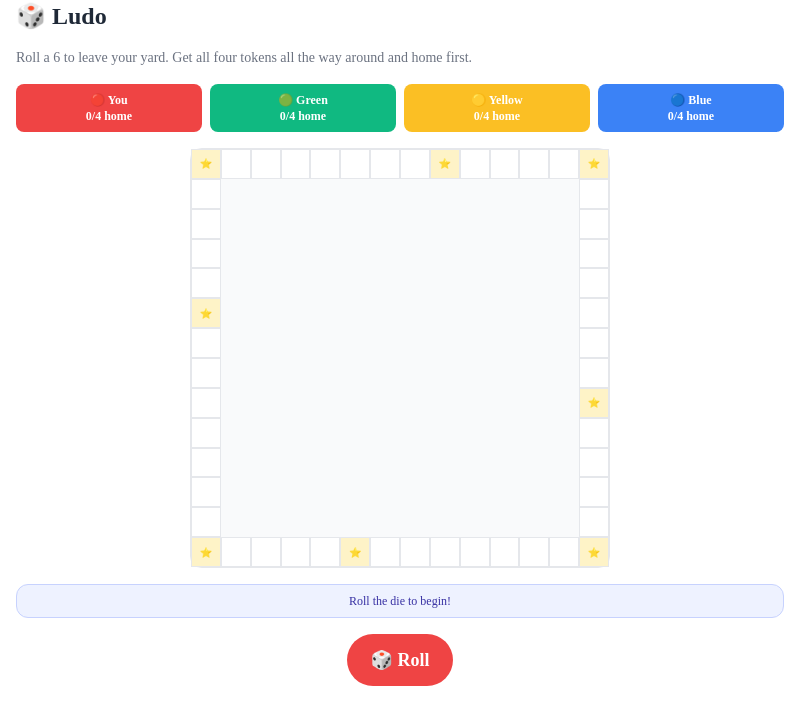
it: LudoGame › rolling a 6 lets the player move a token out of the yard
This screenshot has width=801, height=720.
Click the button "🎲 Roll" at point(400, 660), box [346,634,454,686]
(page scrolled)
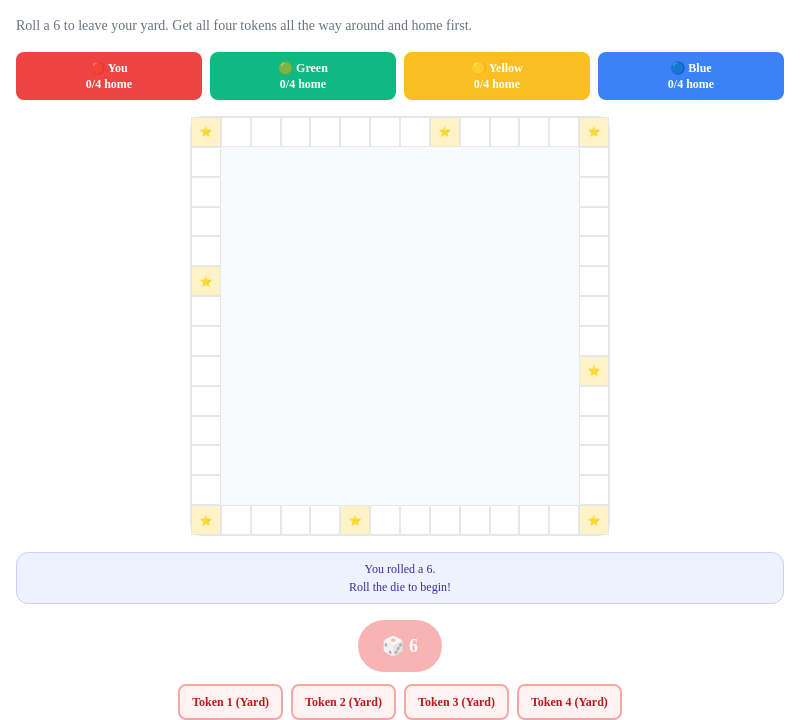
expect the button "🎲 6" is shown: met, box [358,620,442,672]
expect the button "Token 1 (Yard)" is shown: met
Click the button "Token 1 (Yard)" at point(231, 702), box [178,684,283,719]
(page scrolled)
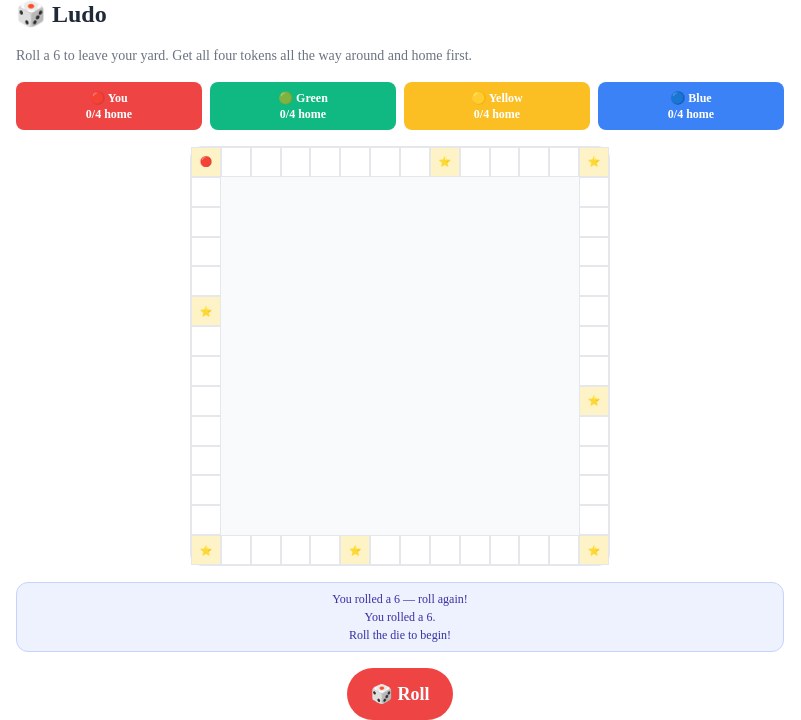
expect the text "You rolled a 6 — roll again!" is shown: met, box [332,592,468,606]
expect the button "🎲 Roll" is shown: met, box [346,668,454,719]
